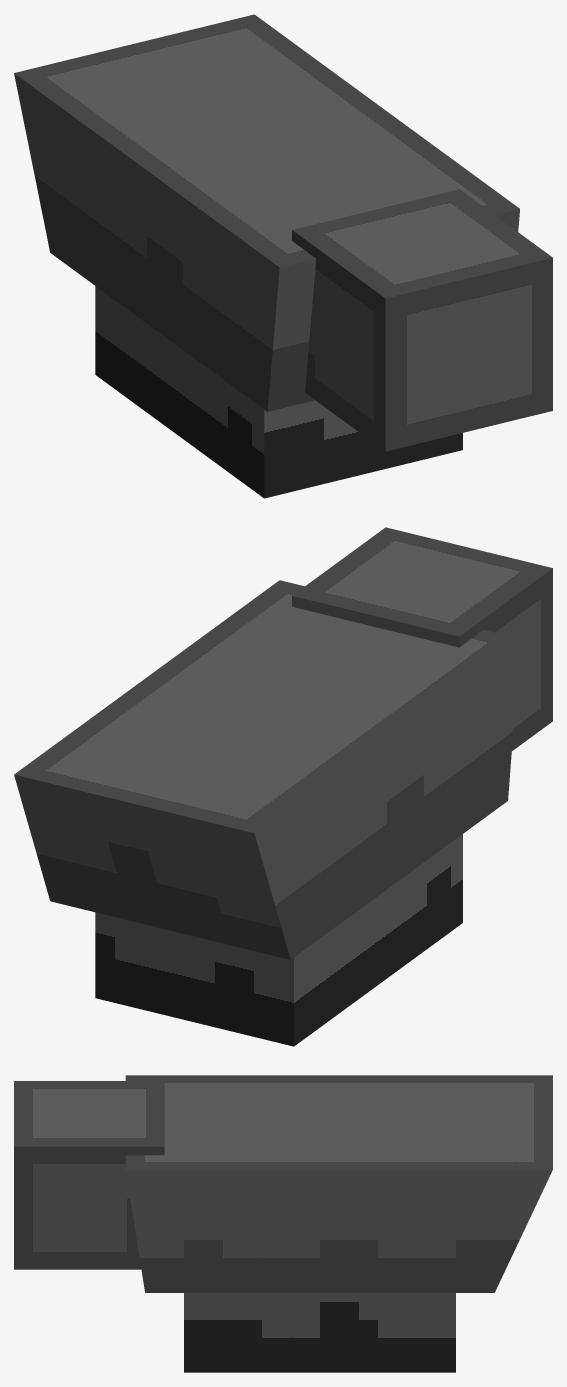
The model's file is Anvil.gltf.
The picture shows the model from 3 angles, top to bottom: view 1: azimuth 30°, elevation 25°; view 2: azimuth 150°, elevation 25°; view 3: azimuth 270°, elevation 25°; orthographic projection. The views are drawn at different scales.
Parts seen in each view (by area): view 1: mesh; view 2: mesh; view 3: mesh.
Boxes of the visible parts, <box> form: mesh: <box>14,14,552,498</box>; mesh: <box>14,527,552,1046</box>; mesh: <box>14,1075,552,1372</box>.
Bounding box in the file's own units: 0.7188 × 0.7812 × 1.73.
1 material, 1 textured.
